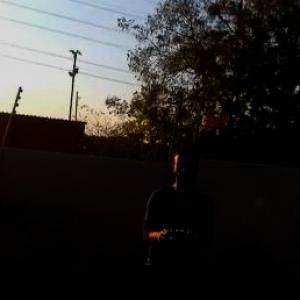follow: (140, 129, 218, 299)
